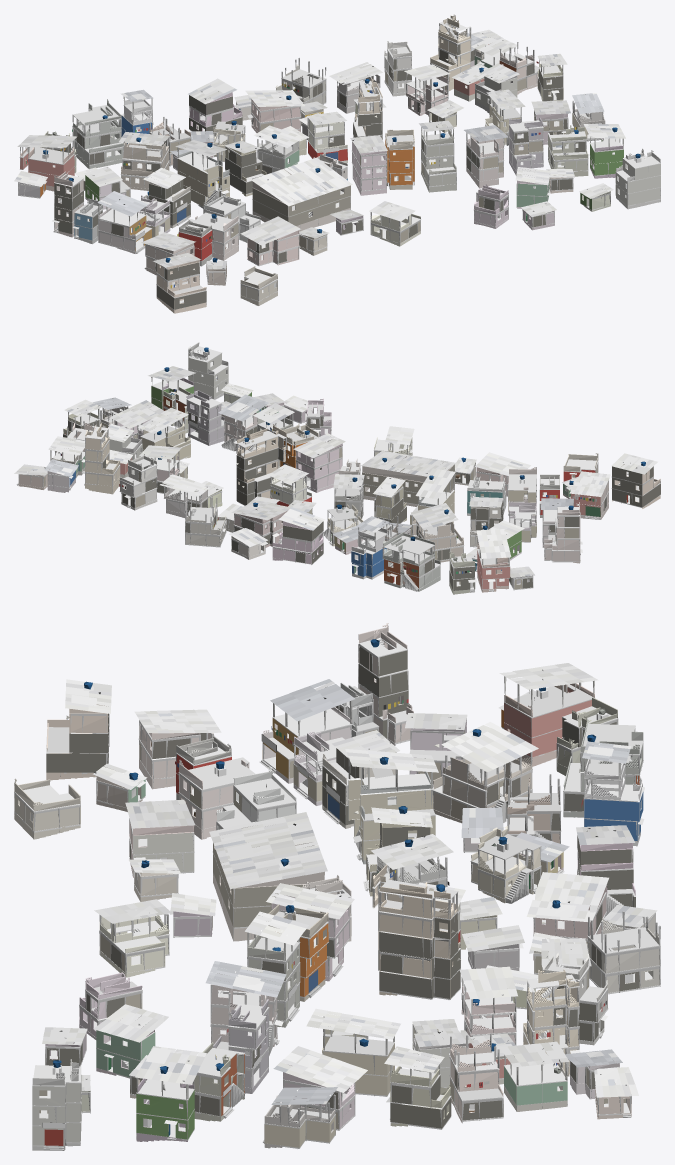
3 renders of one model, top to bottom at view 1: azimuth 30°, elevation 25°; view 2: azimuth 150°, elevation 25°; view 3: azimuth 270°, elevation 25°, orthographic. The views are drawn at different scales.
Visible parts, largest first — view 1: T_24_24; view 2: T_24_24; view 3: T_24_24.
Boxes of the visible parts, x1,y1,x2,y2 form: T_24_24: [14, 14, 660, 313]; T_24_24: [14, 342, 660, 594]; T_24_24: [14, 623, 660, 1150].
Bounding box in the file's own units: 132 × 20.36 × 84.14.
